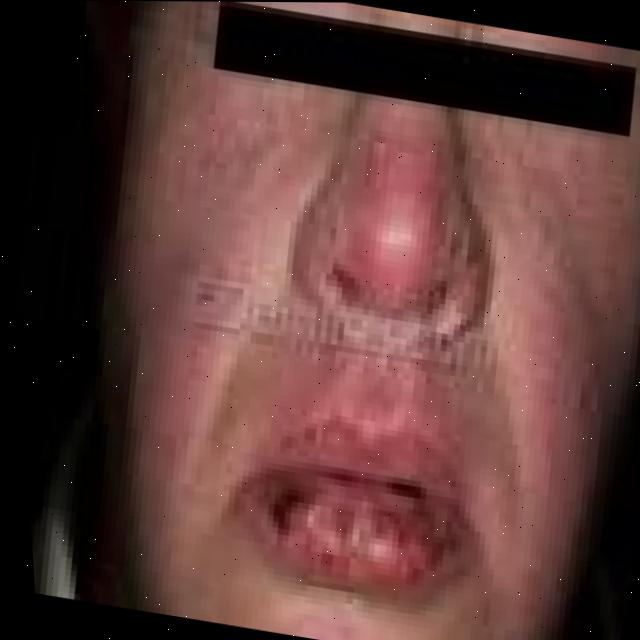Melasma: (224, 407, 485, 593)
